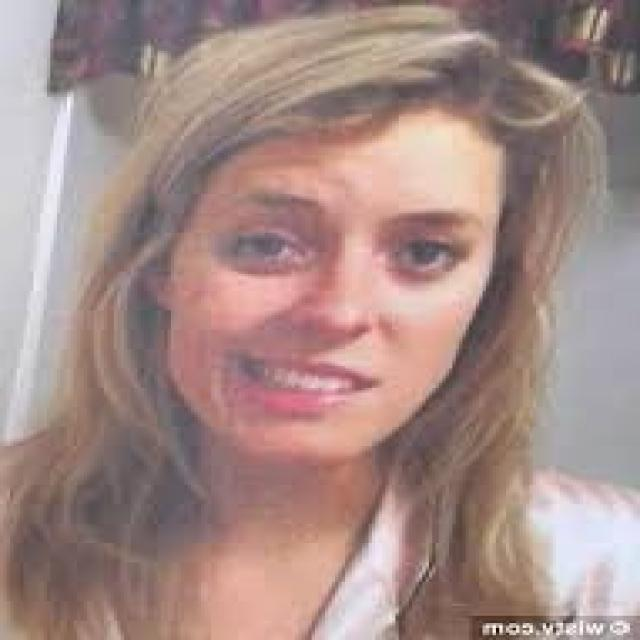stroke_face: (41, 100, 556, 502)
